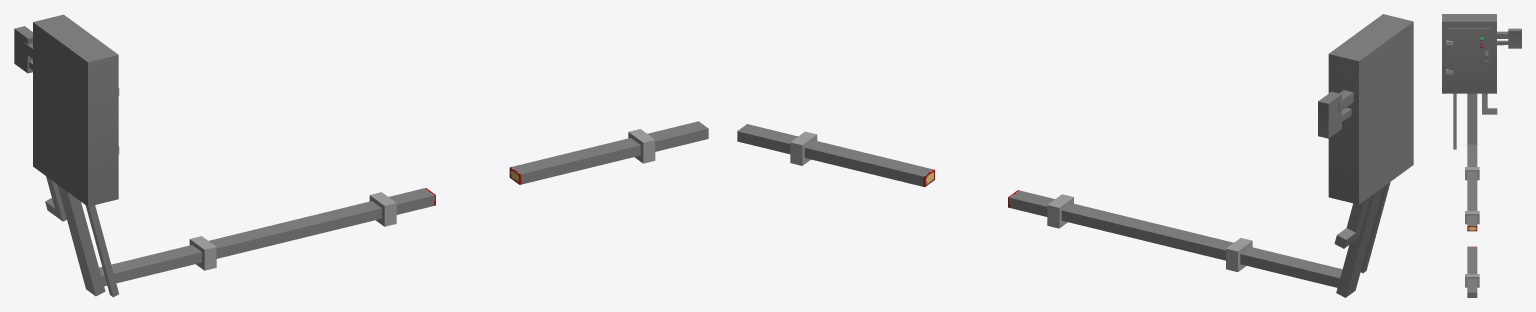
Rendered from elec_box.fbx.
The picture shows the model from 3 angles, left to right: view 1: azimuth 30°, elevation 25°; view 2: azimuth 150°, elevation 25°; view 3: azimuth 270°, elevation 25°; orthographic projection. The views are drawn at different scales.
Visible parts, largest first — view 1: Cube.004; view 2: Cube.004; view 3: Cube.004.
Boxes of the visible parts, bbox=[...] form: Cube.004: bbox=[14, 14, 708, 297]; Cube.004: bbox=[737, 14, 1413, 297]; Cube.004: bbox=[1442, 14, 1521, 297].
Size of the model in its own units: 414 by 160 by 88.57.
